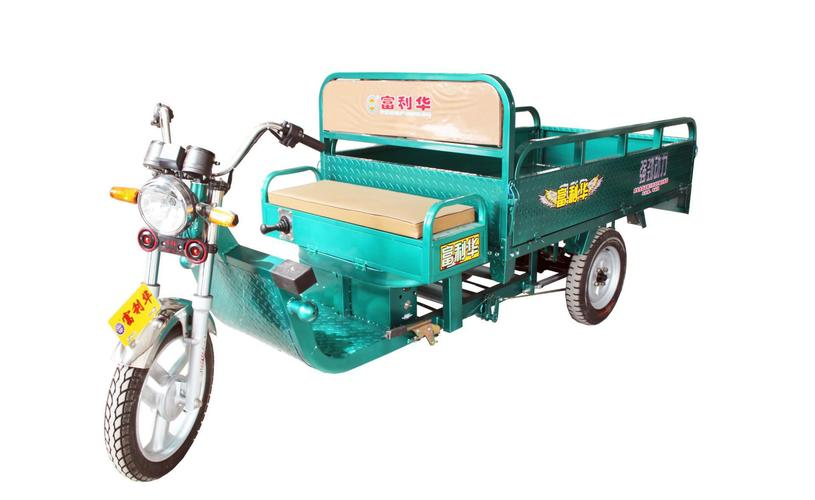empty: (63, 36, 706, 482)
